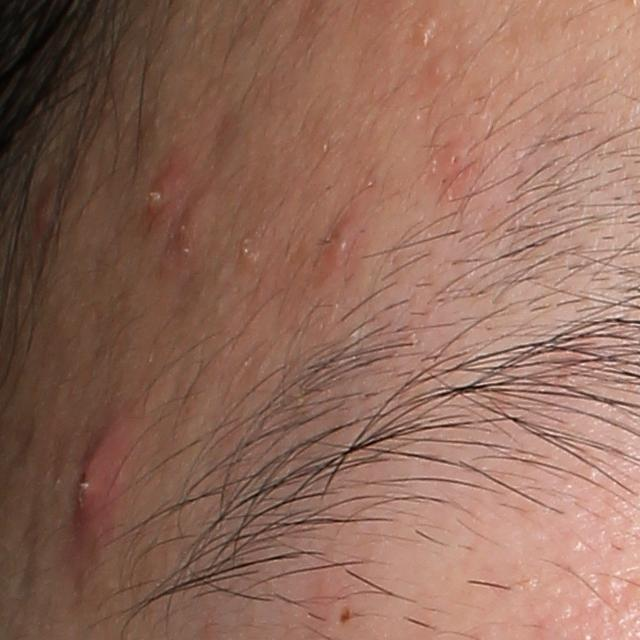comedo: (414, 18, 443, 45), (431, 56, 456, 83)
nevus: (339, 607, 352, 626)
papule: (167, 191, 211, 265), (318, 214, 360, 273), (31, 184, 56, 238)
